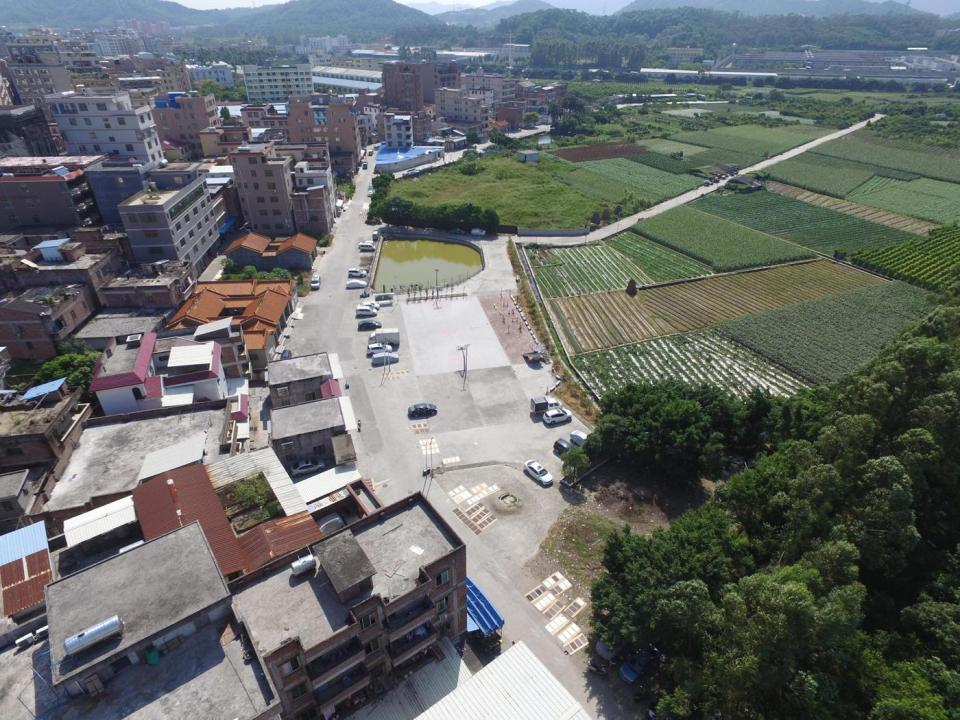car: (595, 622, 639, 660), (620, 644, 661, 684), (289, 456, 328, 480), (524, 459, 553, 486), (553, 438, 580, 461), (570, 430, 596, 450), (543, 409, 572, 424), (408, 403, 437, 418), (372, 352, 399, 365), (367, 343, 392, 356)
truck: (368, 327, 399, 346), (531, 397, 562, 414), (358, 319, 381, 330), (356, 306, 377, 316), (348, 268, 367, 278), (358, 302, 380, 310), (346, 279, 366, 287), (311, 275, 322, 289), (362, 160, 368, 168)
van: (360, 243, 376, 251), (280, 350, 291, 360), (372, 231, 380, 239), (368, 150, 373, 156)
